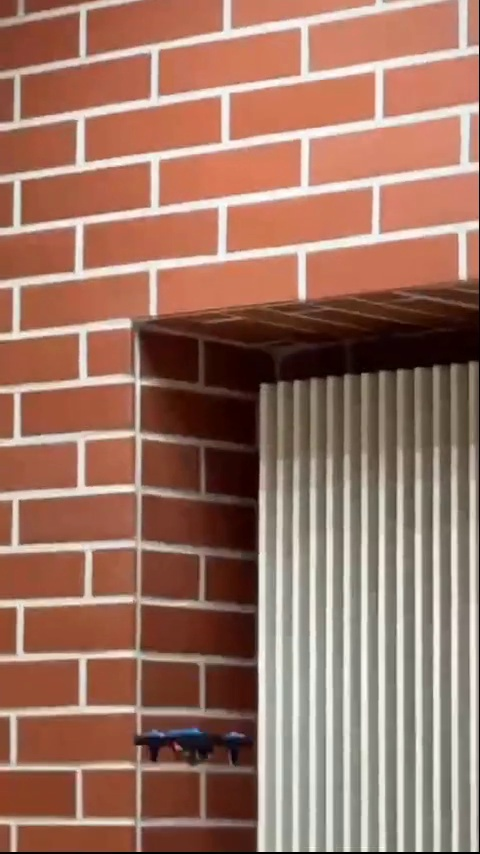drone: (136, 725, 260, 768)
